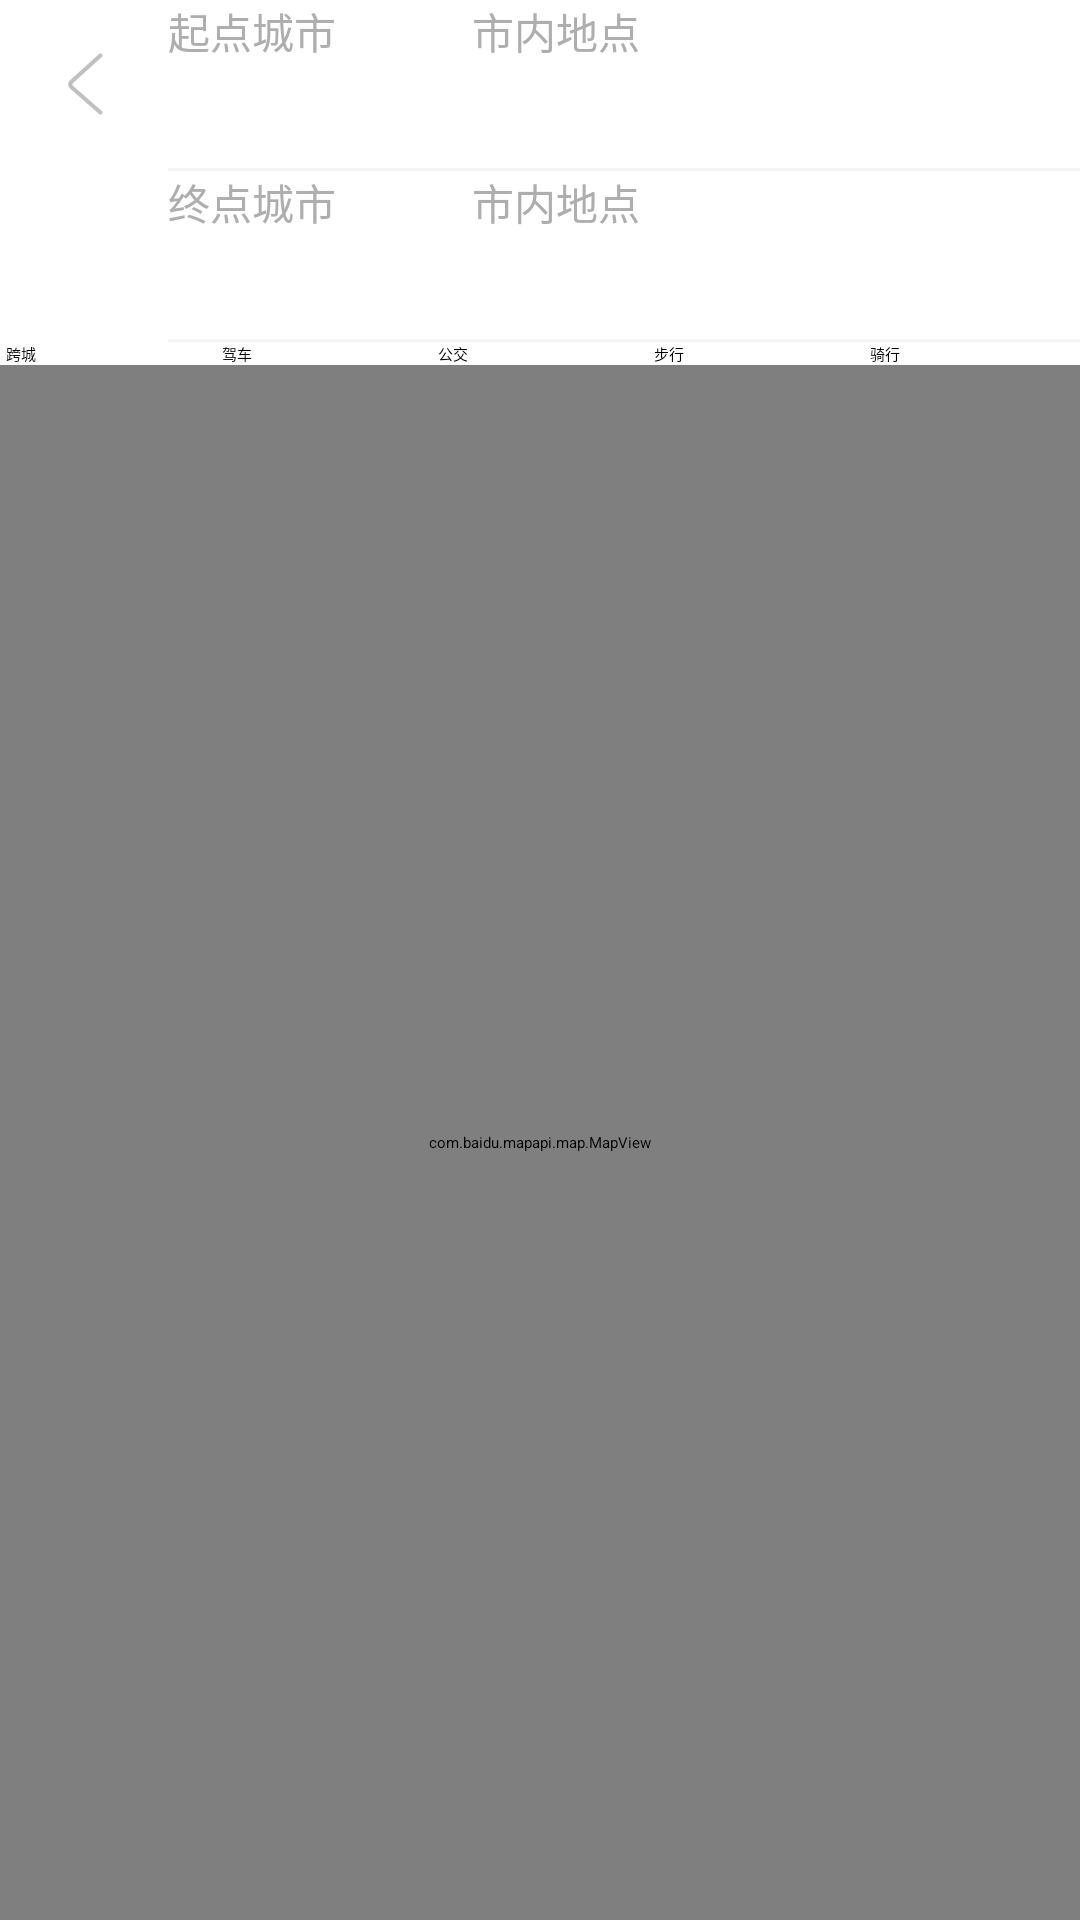

Locate icon controls on the screen. Image size 1080w x 1920h, boxes as [x1,y1,x2,y2].
back: [68,53,103,115]
